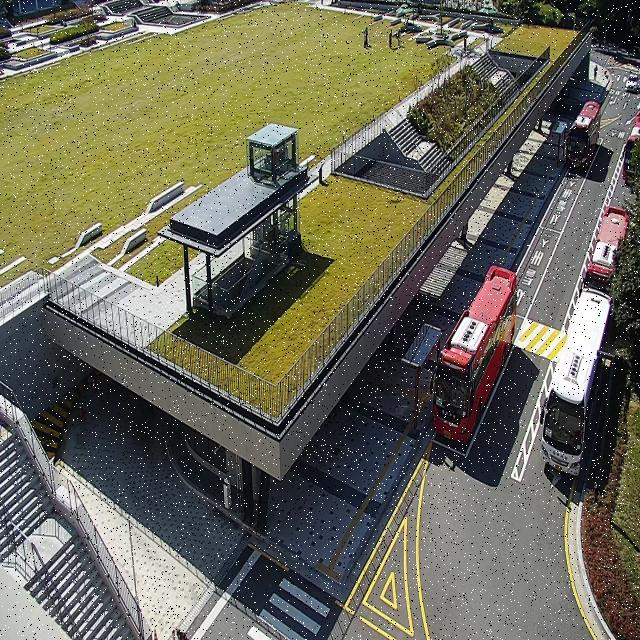queue: (415, 331, 439, 432)
